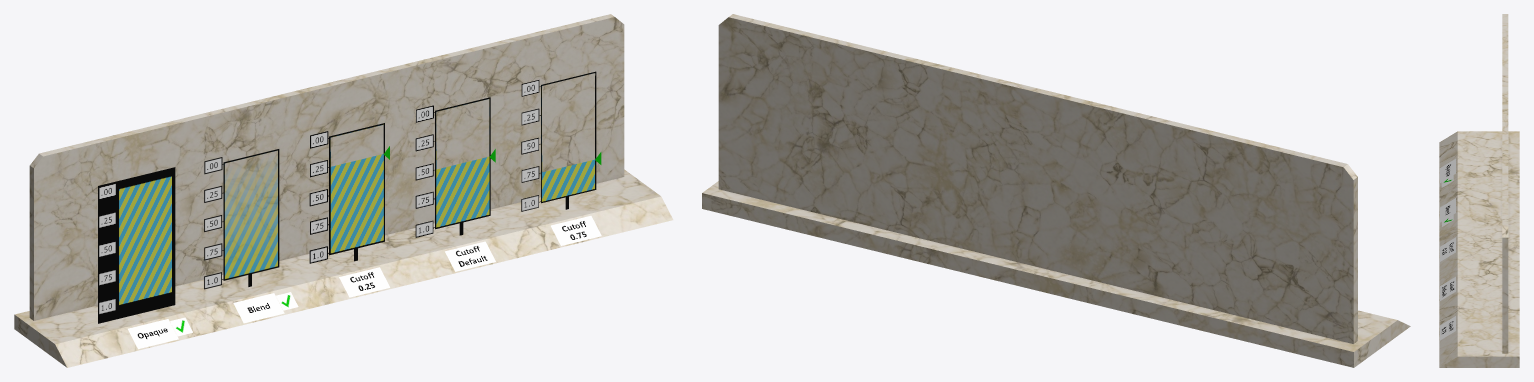
File: AlphaBlendModeTest.glb
The picture shows the model from 3 angles, left to right: view 1: azimuth 30°, elevation 25°; view 2: azimuth 150°, elevation 25°; view 3: azimuth 270°, elevation 25°; orthographic projection. The views are drawn at different scales.
Visible parts, largest first — view 1: Bed, TestOpaque, TestBlend, TestCutoff25, DecalOpaque, TestCutoffDefault, TestCutoff75; view 2: Bed; view 3: Bed, DecalOpaque.
Boxes of the visible parts, left/top/right/bottom form: Bed: left=14, top=14, right=673, bottom=367; TestOpaque: left=98, top=167, right=175, bottom=323; TestBlend: left=204, top=149, right=279, bottom=289; TestCutoff25: left=309, top=123, right=384, bottom=263; DecalOpaque: left=128, top=216, right=601, bottom=349; TestCutoffDefault: left=415, top=97, right=490, bottom=237; TestCutoff75: left=521, top=71, right=596, bottom=211; Bed: left=702, top=14, right=1410, bottom=367; Bed: left=1439, top=14, right=1519, bottom=367; DecalOpaque: left=1440, top=158, right=1455, bottom=340.
Size of the model in its own units: 8.6 by 2.4 by 1.3.
Materials: 6 (6 with a texture image).
